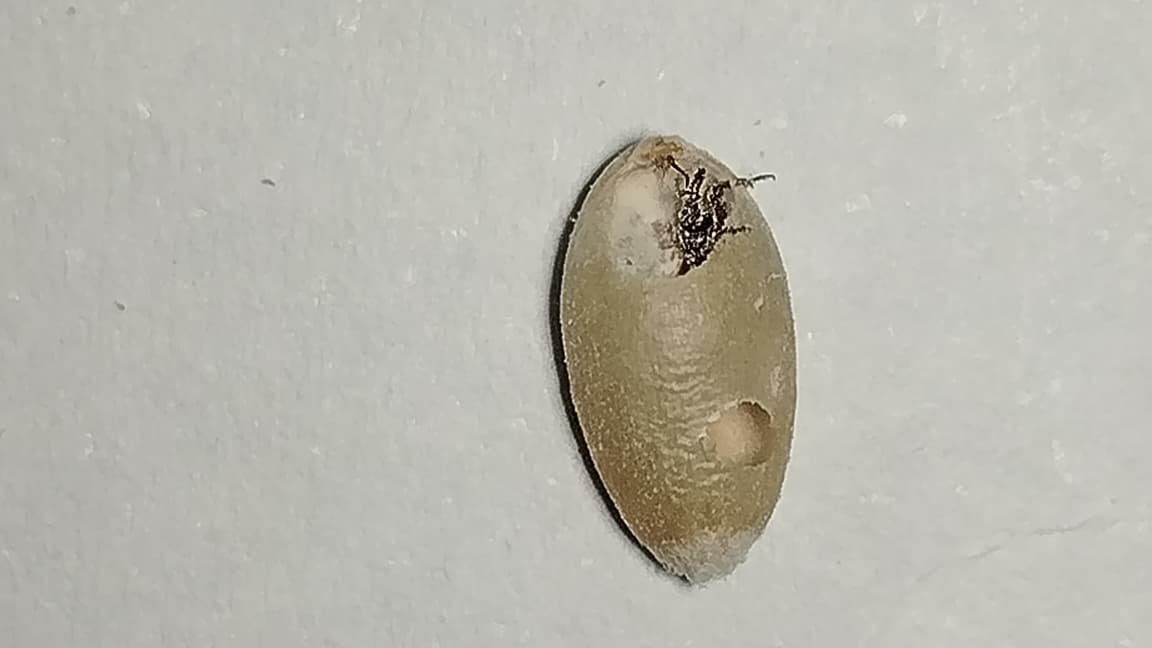damage: (559, 137, 795, 582)
insectdamage: (606, 138, 773, 288), (685, 375, 794, 484)
